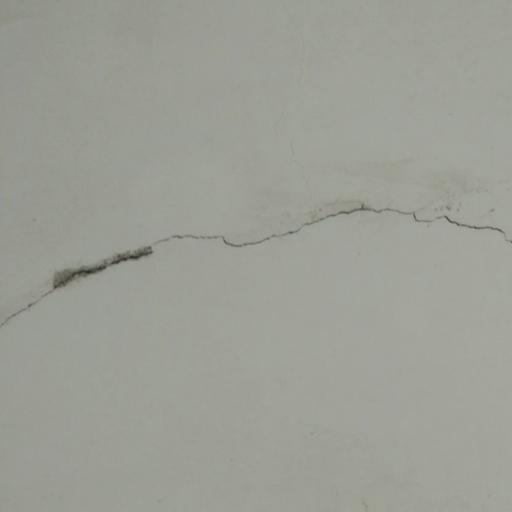major_crack: (0, 189, 512, 328)
